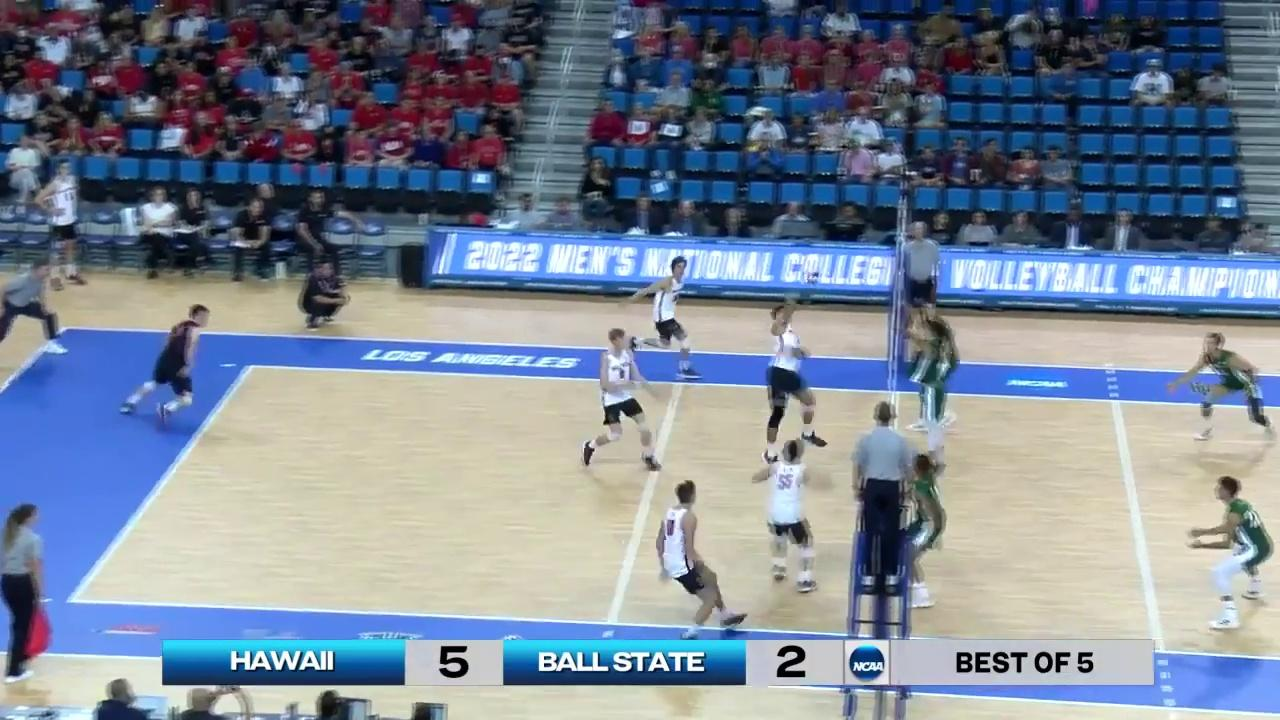player: (651, 480, 745, 638), (1187, 477, 1271, 631), (582, 327, 662, 470), (1174, 332, 1278, 441), (119, 304, 211, 422), (760, 303, 827, 463), (624, 258, 703, 376), (759, 441, 819, 596), (898, 451, 948, 611), (914, 304, 959, 432), (911, 321, 949, 468)
refree: (853, 402, 914, 590), (0, 509, 47, 685), (0, 261, 71, 356), (901, 221, 941, 359)
